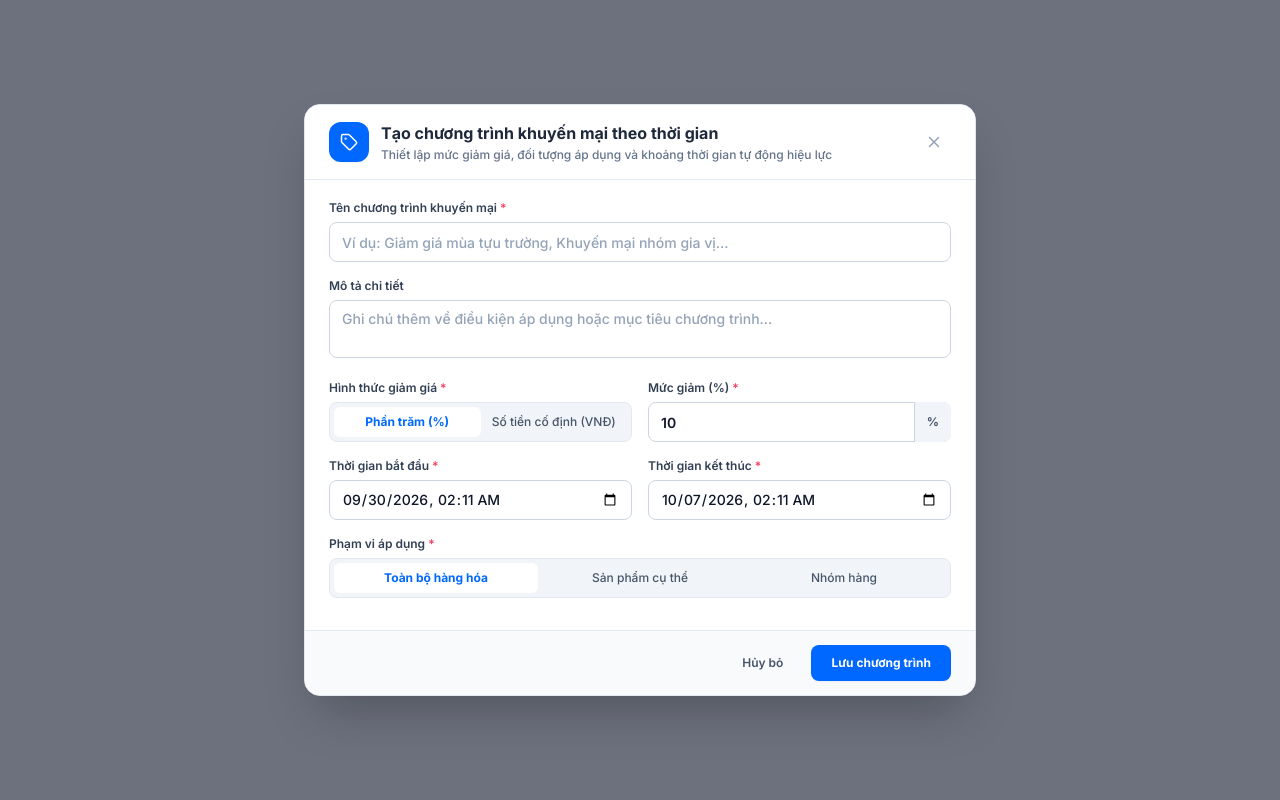
it: PromotionFormModal Redesign › switches discount type cleanly between percentage and fixed amount
The image size is (1280, 800).
Step 1. Click the button "Số tiền cố định (VNĐ)" → (554, 422), box [480,407,627,437]
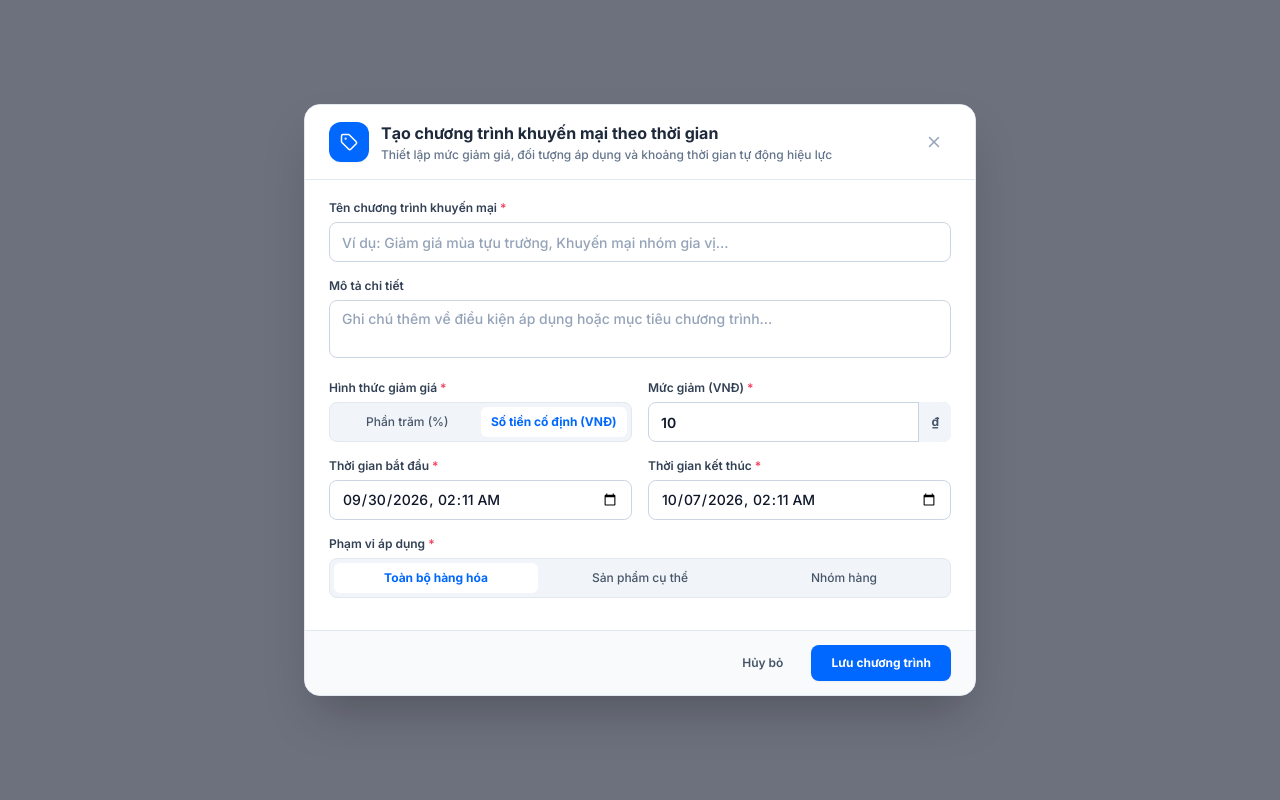
expect the text "₫" is shown: met, box [918,402,951,442]
Step 2. Click the button "Phần trăm (%)" → (407, 422), box [334,407,480,437]
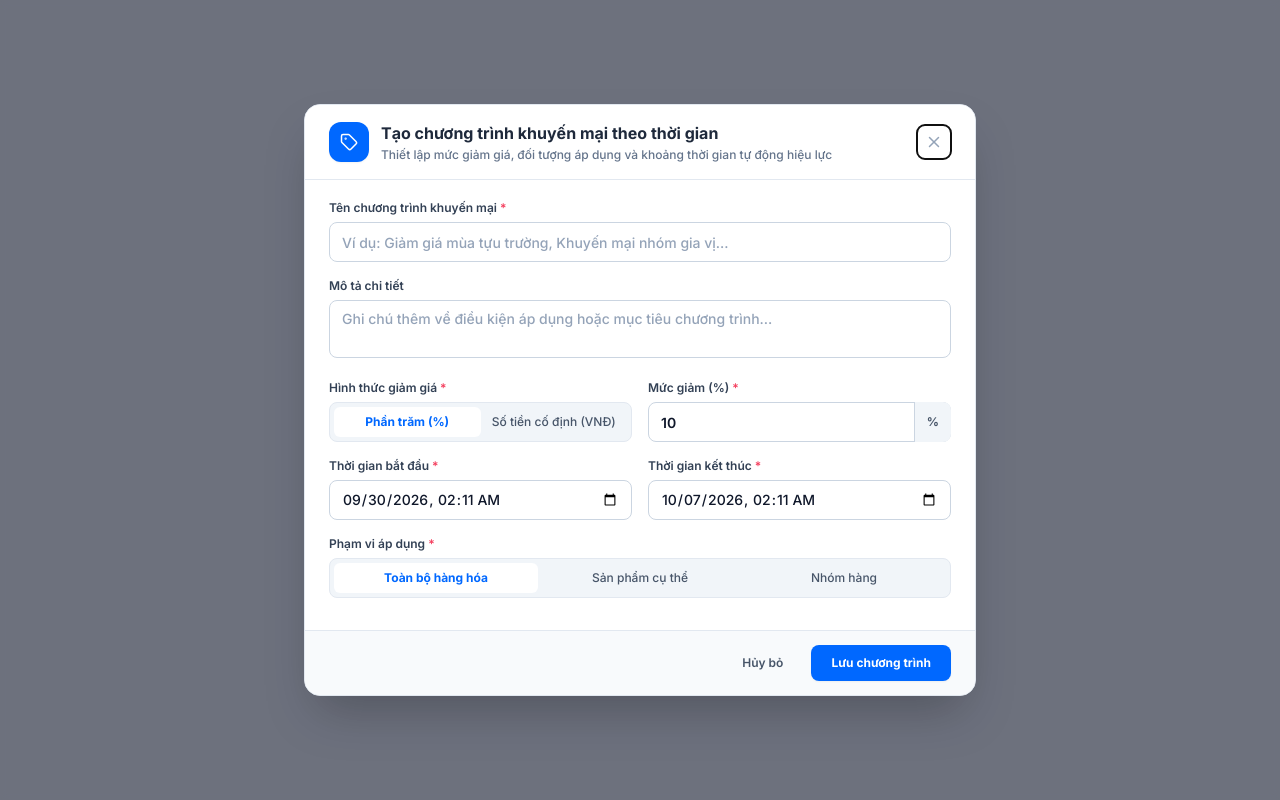
expect the text "%" is shown: met, box [914,402,951,442]
